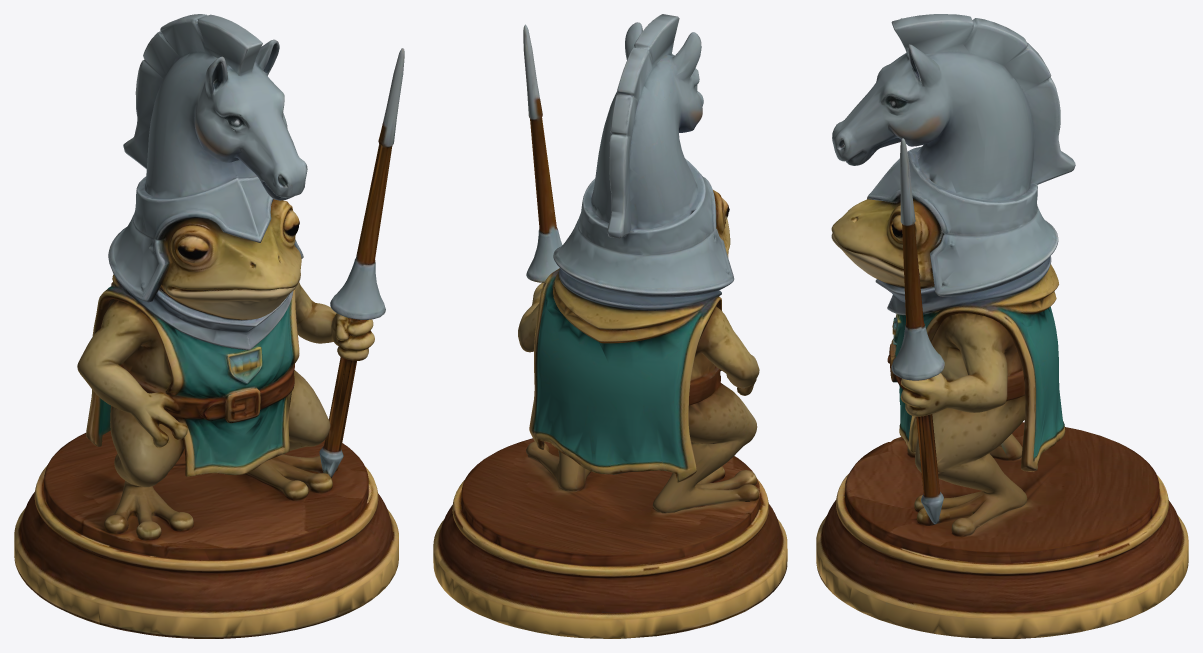
Rendered from hunyuan-knight-ally.glb.
3 views of the same model, side by side, from view 1: azimuth 30°, elevation 25°; view 2: azimuth 150°, elevation 25°; view 3: azimuth 270°, elevation 25° (orthographic). The views are drawn at different scales.
Visible parts, largest first — view 1: material; view 2: material; view 3: material.
Part boxes in pixels (x1=…): material: x1=14, y1=14, x2=404, y2=638; material: x1=433, y1=14, x2=787, y2=638; material: x1=816, y1=14, x2=1188, y2=638.
Size of the model in its own units: 0.6297 by 1.02 by 0.6387.
1 material, 1 textured.
